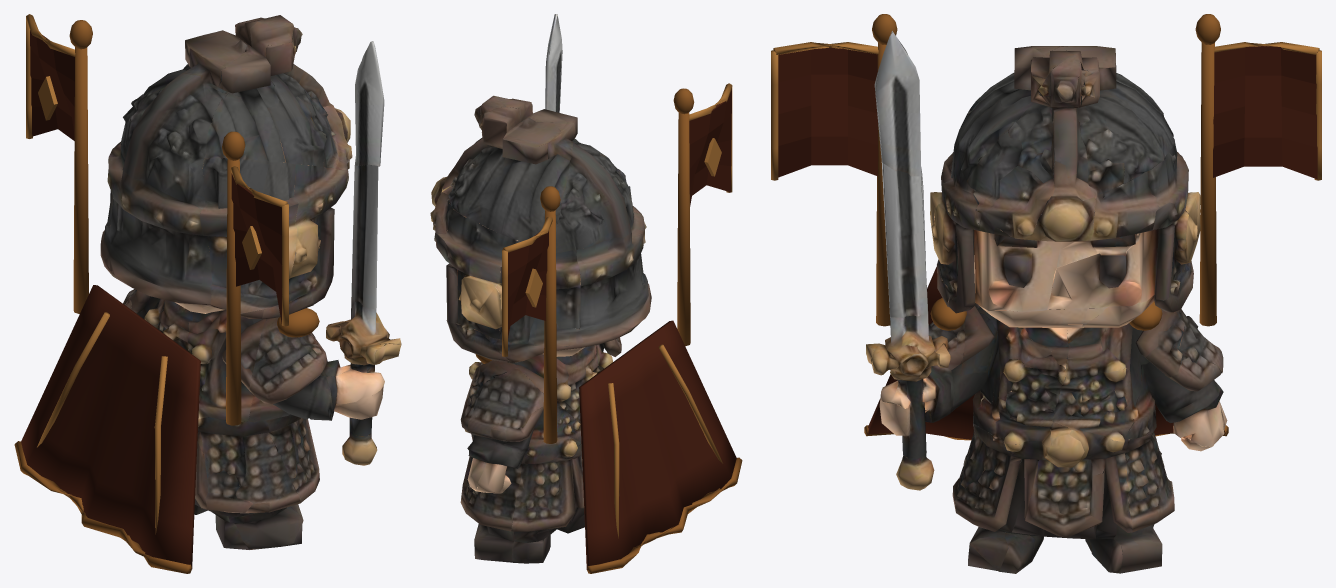
Rendered from general.glb.
3 renders of one model, left to right at view 1: azimuth 30°, elevation 25°; view 2: azimuth 150°, elevation 25°; view 3: azimuth 270°, elevation 25°, orthographic. The views are drawn at different scales.
Visible parts, largest first — view 1: general-readable-standard; view 2: general-readable-standard; view 3: general-readable-standard.
Boxes of the visible parts, bbox=[...] form: general-readable-standard: bbox=[14, 14, 401, 573]; general-readable-standard: bbox=[430, 14, 742, 573]; general-readable-standard: bbox=[771, 14, 1321, 573].
Size of the model in its own units: 0.5516 by 1 by 0.9021.
Materials: 1 (1 with a texture image).
